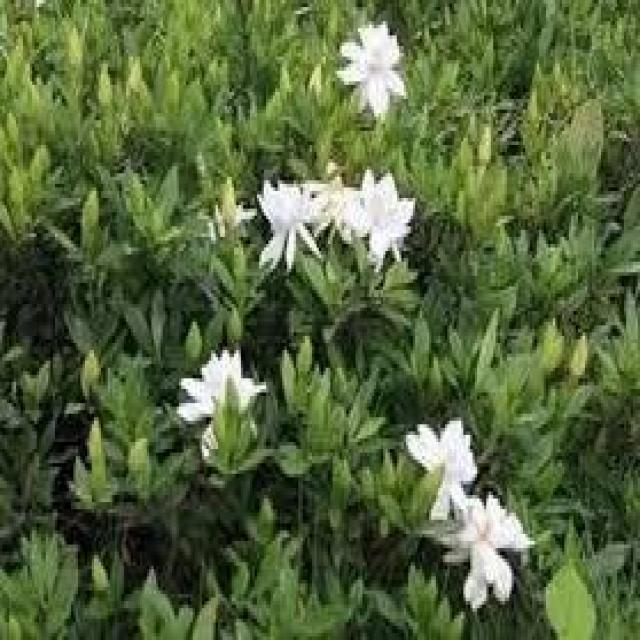organic waste: (251, 161, 350, 302), (455, 486, 536, 606), (407, 421, 490, 516), (341, 162, 418, 262), (344, 27, 415, 129), (180, 350, 267, 431)
